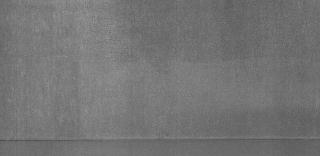welding line: (1, 134, 320, 146)
